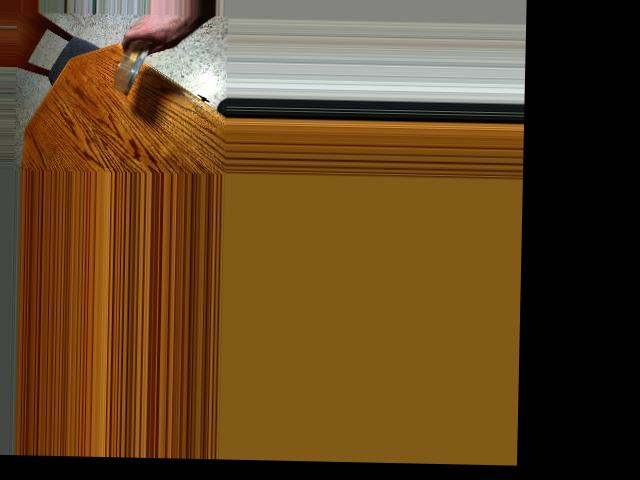cheese: (112, 31, 149, 98)
